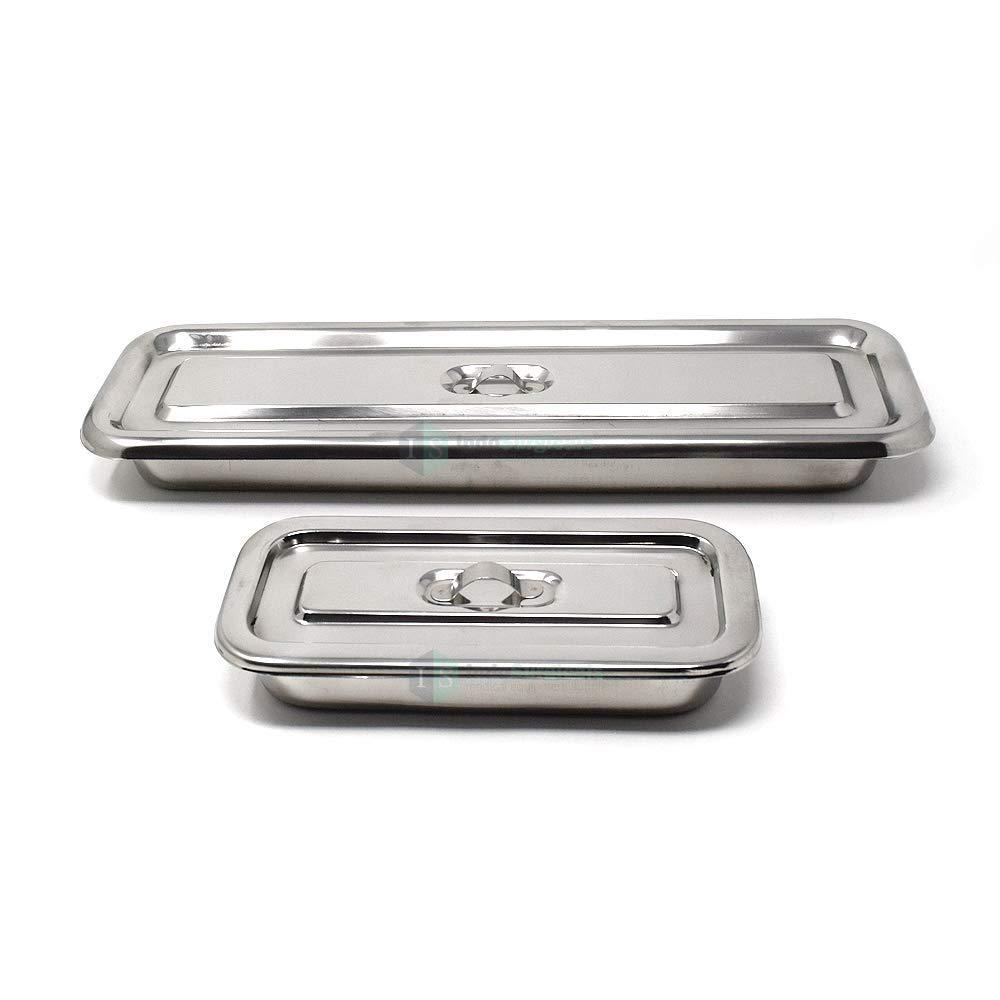Catheter Tray: (74, 273, 937, 496), (209, 514, 766, 733)
